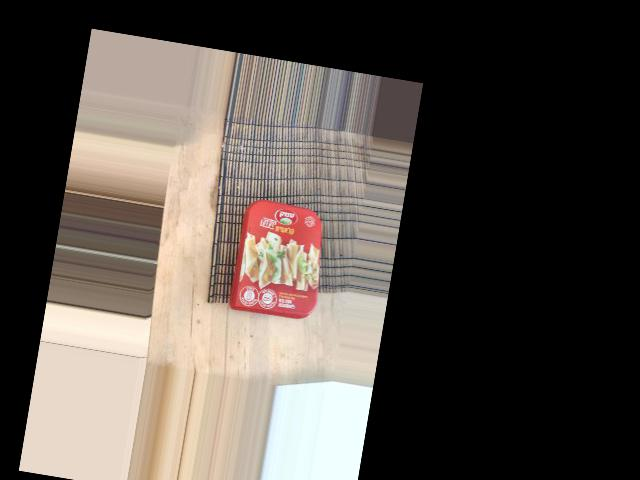cheese: (235, 144, 393, 248)
